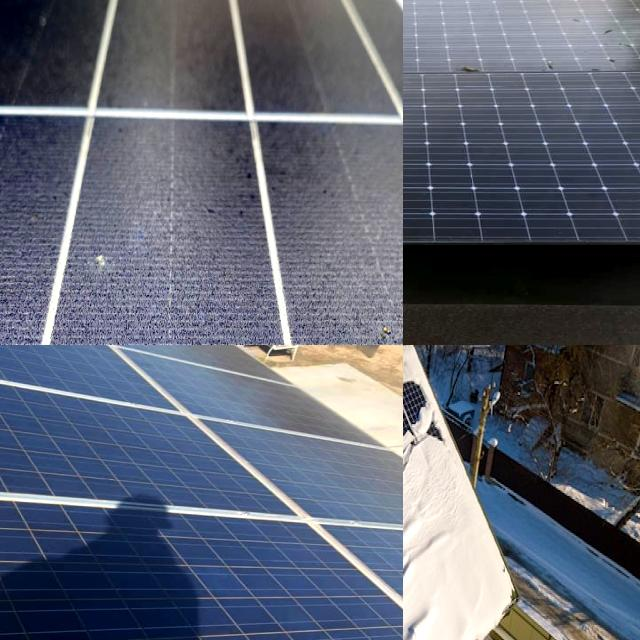crack: (0, 479, 403, 640), (0, 345, 322, 539), (117, 345, 403, 464), (174, 407, 403, 548), (0, 345, 224, 434), (0, 345, 163, 409), (0, 345, 151, 403)
dust: (403, 90, 507, 221), (543, 112, 640, 234), (403, 104, 486, 202)
panel: (403, 479, 434, 579), (406, 412, 460, 468), (403, 431, 456, 478), (403, 506, 444, 559), (403, 448, 441, 501), (403, 584, 436, 640), (403, 571, 423, 640), (403, 587, 428, 640), (403, 419, 431, 464), (403, 366, 437, 403), (403, 548, 429, 592), (403, 401, 430, 442), (403, 476, 430, 509), (403, 615, 423, 640)
